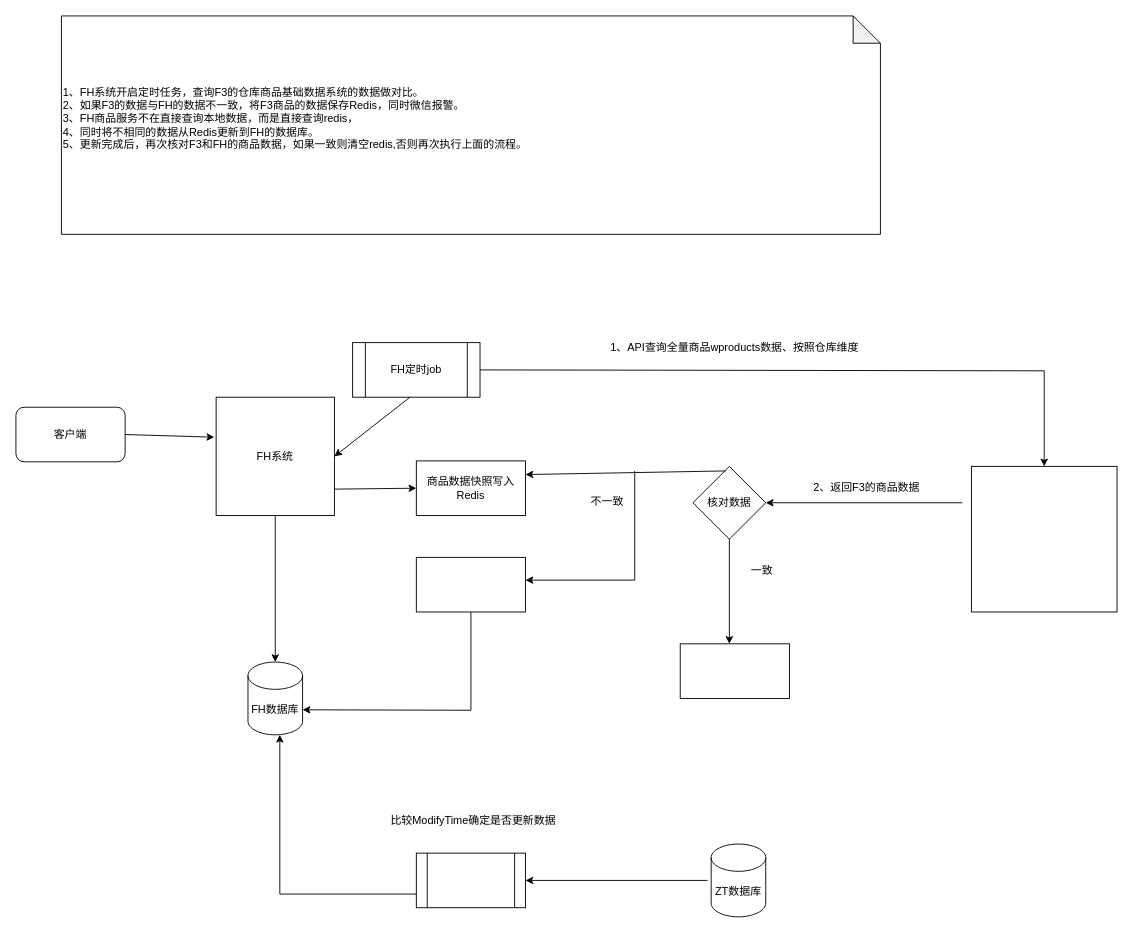
Some shapes in this 1133 by 933 pixel diagram are drawn without their labels. The centre of each missing label's shape, as x and y in pixels:
canal: (470,880)
F3系统: (1044,538)
更新不一致字段，并记录F3表（ModifyTime)字段: (470,584)
清除Redis商品快照数据: (734,670)
